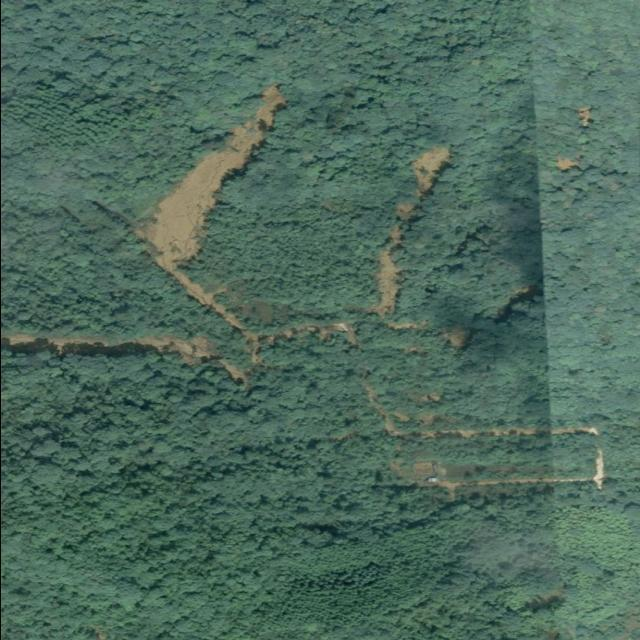landslide: (135, 84, 285, 343), (0, 335, 245, 381), (367, 245, 399, 316), (414, 148, 448, 196)
